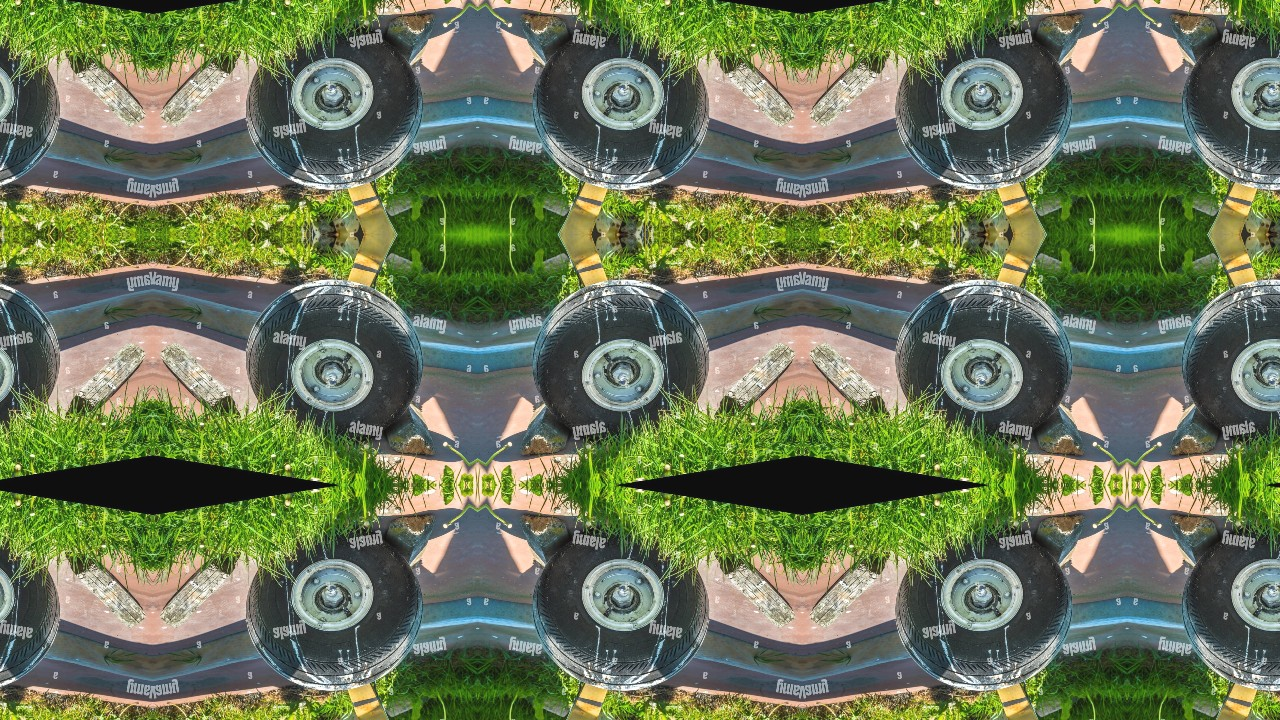chock: (60, 553, 153, 636), (802, 553, 895, 636), (153, 553, 245, 636), (710, 553, 802, 636), (60, 52, 153, 134), (802, 52, 895, 134), (60, 335, 153, 417), (802, 335, 895, 417), (153, 52, 245, 134), (710, 52, 802, 134), (153, 335, 245, 417), (710, 335, 802, 417), (382, 9, 444, 76), (511, 9, 573, 76), (1032, 9, 1094, 76), (1161, 9, 1223, 76), (382, 393, 444, 460), (511, 393, 573, 460), (1032, 393, 1094, 460), (1161, 393, 1223, 460), (382, 511, 444, 577), (511, 511, 573, 577), (1032, 511, 1094, 577), (1161, 511, 1223, 577)
wheel: (235, 22, 434, 202), (521, 22, 720, 202), (885, 22, 1084, 202), (235, 267, 434, 447), (521, 267, 720, 447), (885, 267, 1084, 447), (235, 524, 434, 704), (521, 524, 720, 704), (885, 524, 1084, 704), (1171, 22, 1280, 202), (1171, 267, 1280, 447), (1171, 524, 1280, 704), (0, 22, 70, 202), (0, 267, 70, 447), (0, 524, 70, 704)
